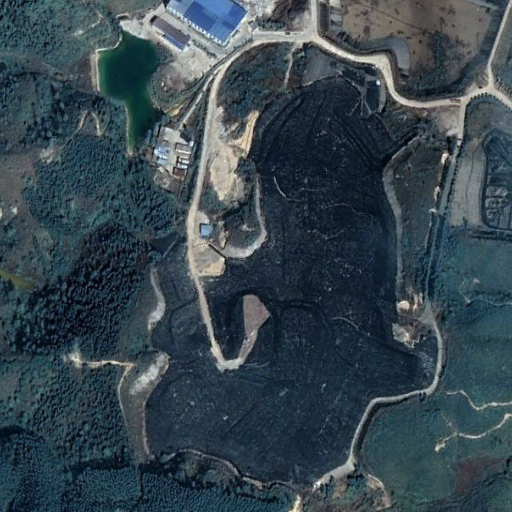lf: (141, 41, 441, 495)
